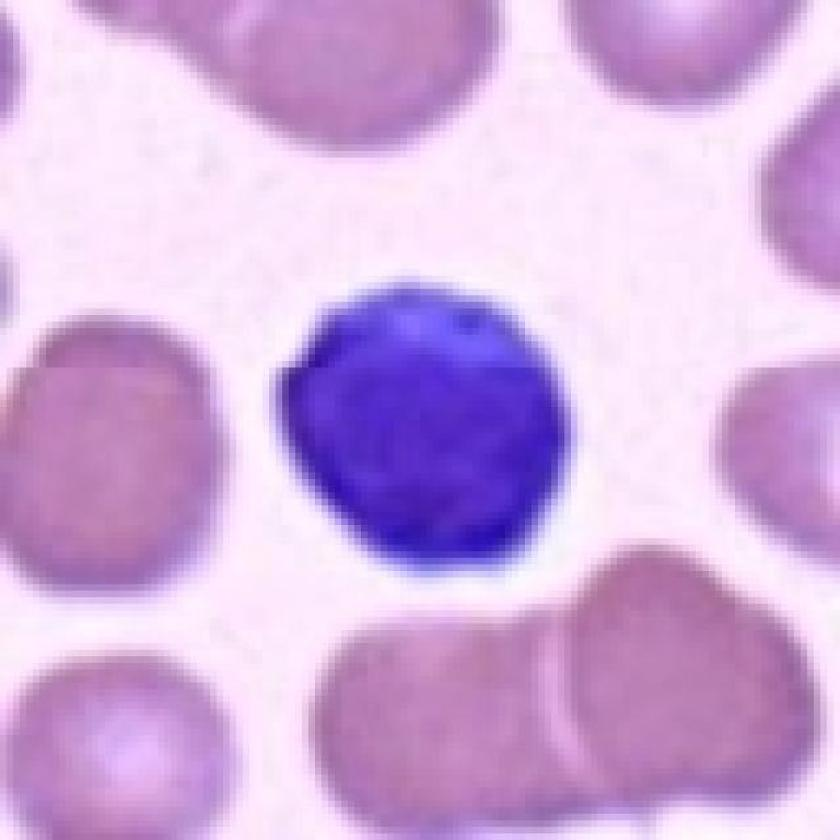lymphocyte: (270, 264, 581, 570)
